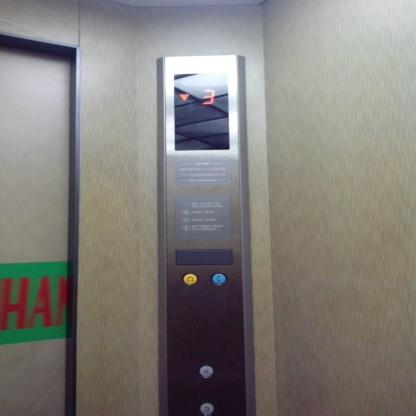3: (196, 402, 215, 416)
4: (196, 364, 215, 378)
alarm: (180, 272, 199, 285)
call: (208, 272, 227, 285)
led: (171, 71, 231, 152)
